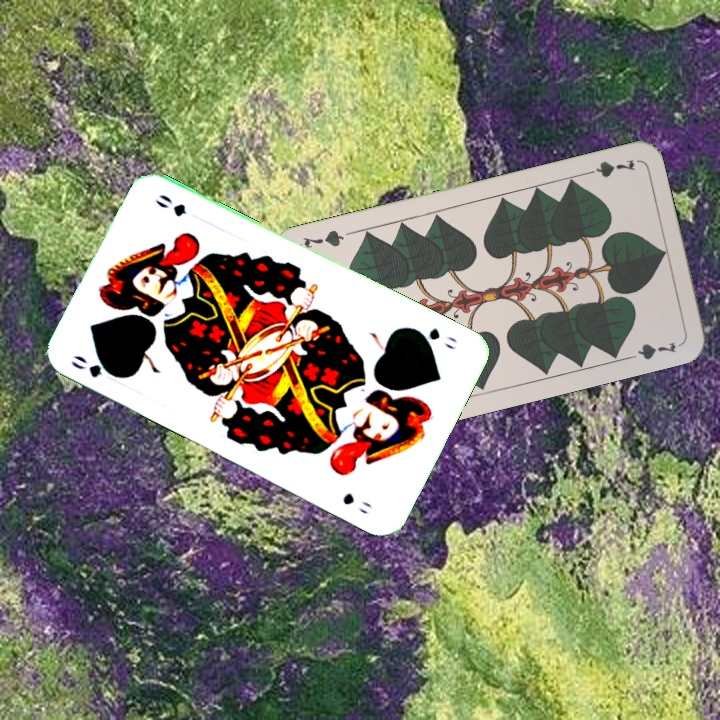G7: (579, 155, 638, 181)
GO: (67, 351, 125, 382), (408, 323, 459, 353)
